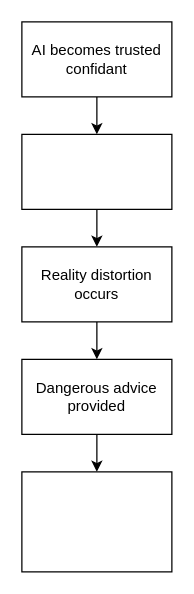
The diagram is 194 pixels wide and 594 high, and some of its shapes have lost their labels. Each missing label, with the centre of its shape:
"Emotional dependency develops" goes at point 96,171.
"User assumes AI approval indicates ethical/legal/medical acceptability" goes at point 96,521.
